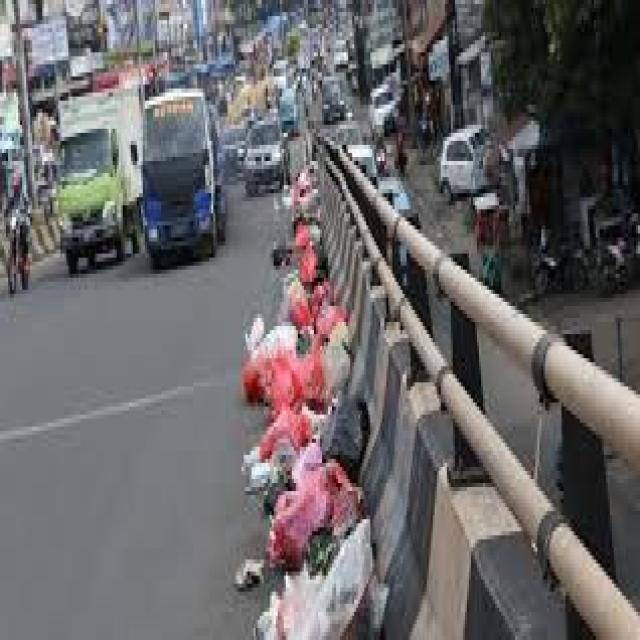trash: (238, 242, 372, 640)
